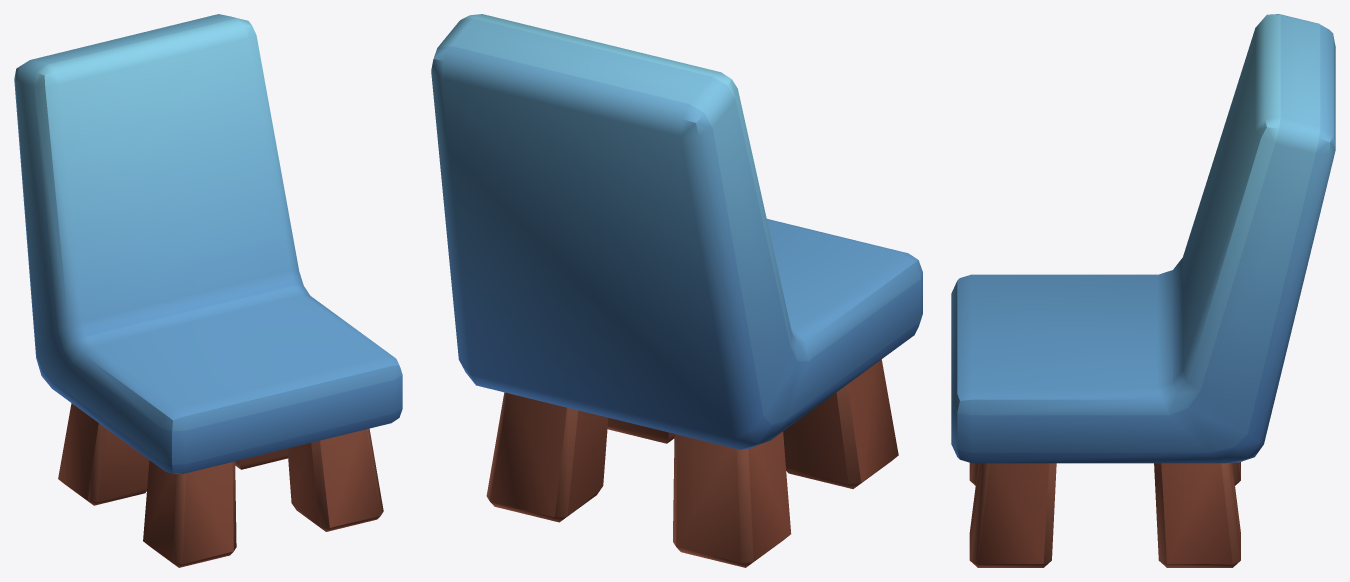
3 views of the same model, side by side, from view 1: azimuth 30°, elevation 25°; view 2: azimuth 150°, elevation 25°; view 3: azimuth 270°, elevation 25° (orthographic). The views are drawn at different scales.
Parts seen in each view (by area): view 1: chair_C; view 2: chair_C; view 3: chair_C.
Boxes of the visible parts, x1,y1,x2,y2 form: chair_C: [14, 14, 402, 567]; chair_C: [431, 14, 922, 567]; chair_C: [951, 14, 1335, 567].
Size of the model in its own units: 0.75 by 1.2 by 0.9356.
1 material, 1 textured.
